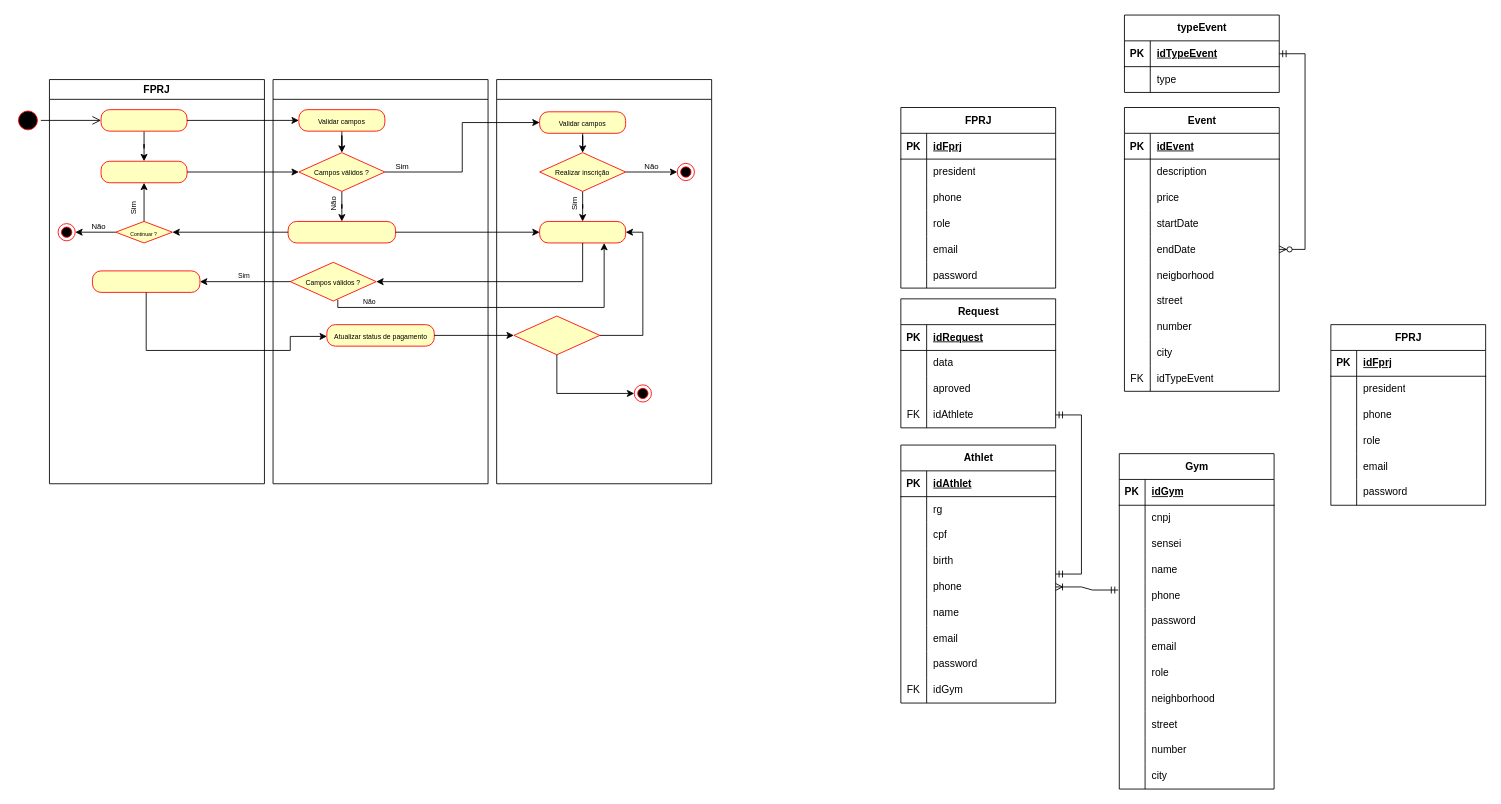
This 1501x804 diagram has some shape labels left out. The shapes that lost their labels are listed below. From the top down, each one's box as (x1, y1, x2, y2) in pixels, then its label:
(100, 109, 187, 131): Cadastrar evento
(100, 160, 187, 183): Reenviar
(287, 221, 396, 243): Retornar feedback.
(539, 221, 626, 243): Preencher campos
(92, 270, 200, 292): Validar inscrição
(272, 79, 488, 484): SISTEMA
(496, 79, 712, 484): ALUNO
(513, 315, 600, 355): Inscrição aprovada?
